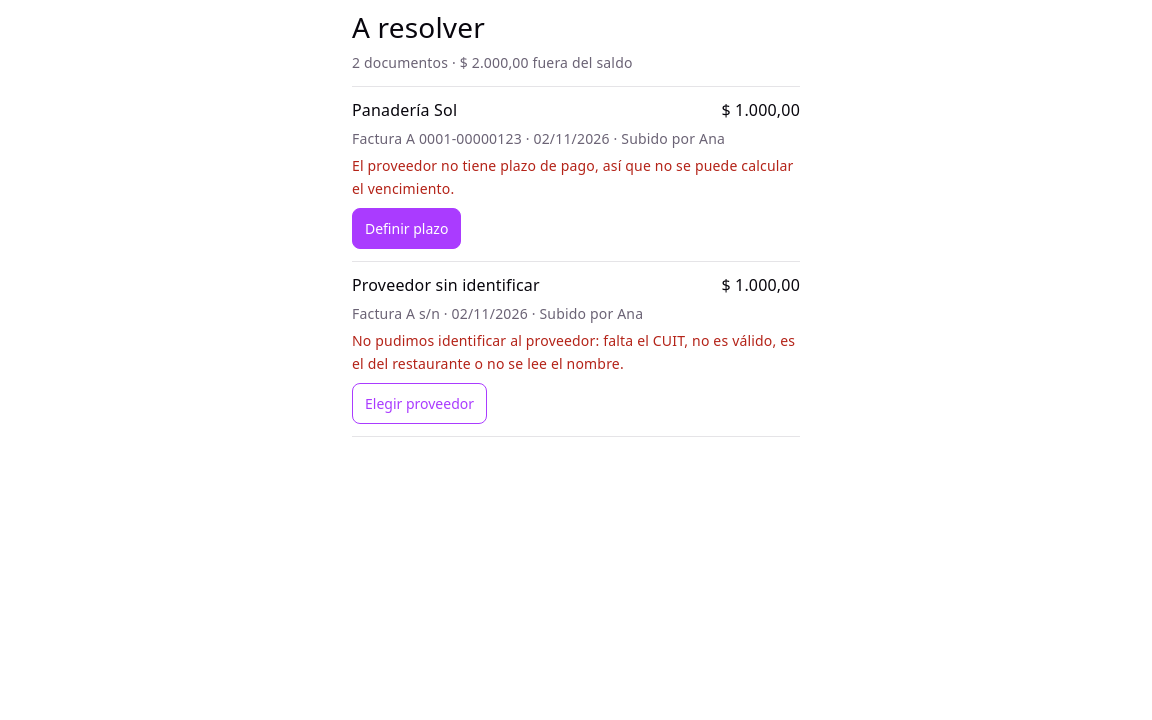
Test: A resolver › assigns a supplier with the term just saved from Definir plazo
Expected: the text "2 documentos · $ 2.000,00 fuera del saldo" is shown, [352,53,633,72]
Step 1. Click the button "Definir plazo" → coordinates (407, 229), box [352,208,461,249]
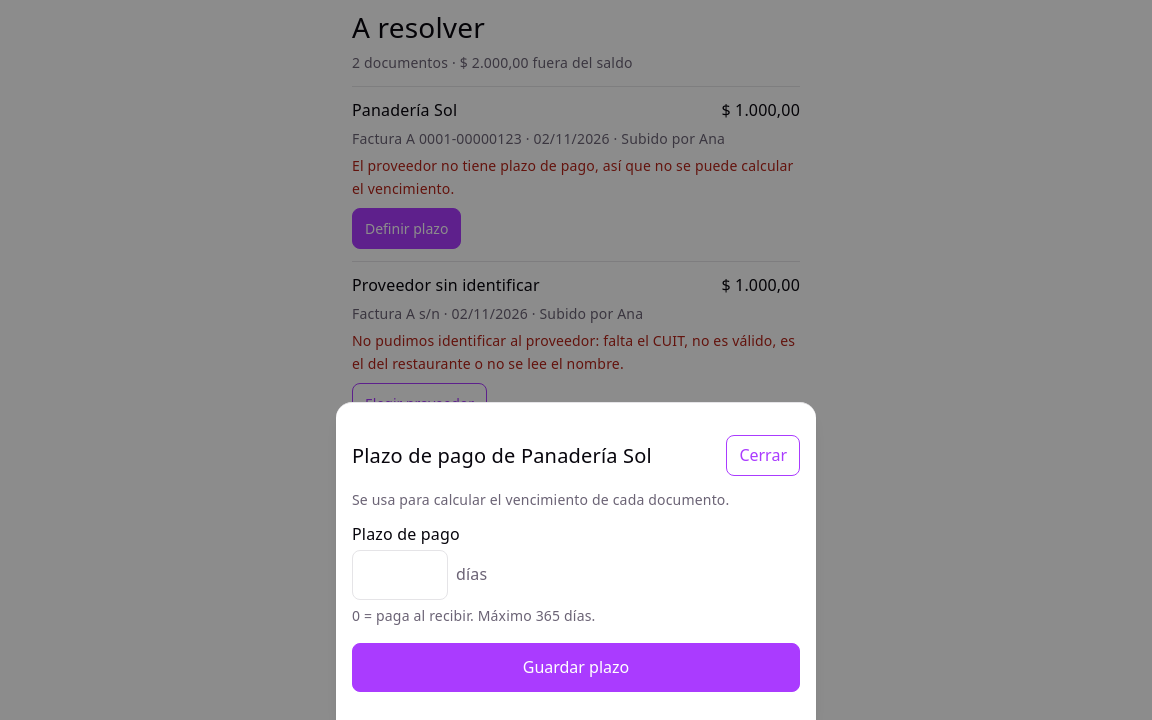
Step 2. Type "30" into the field labelled "Plazo de pago" → coordinates (400, 575), box [352,550,448,600]
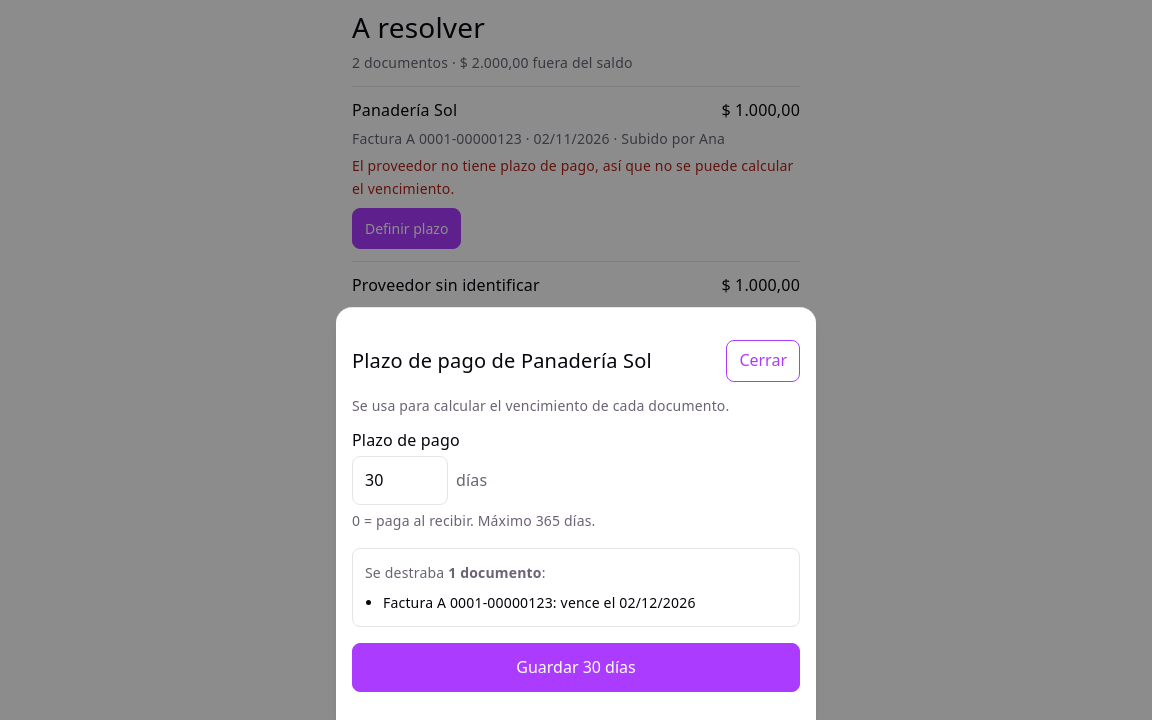
Now the list item "Factura A 0001-00000123: vence el 02/12/2026" is shown, box [383,593,696,612]
Step 3. Click the button "Guardar 30 días" → coordinates (576, 667), box [352,643,800,692]
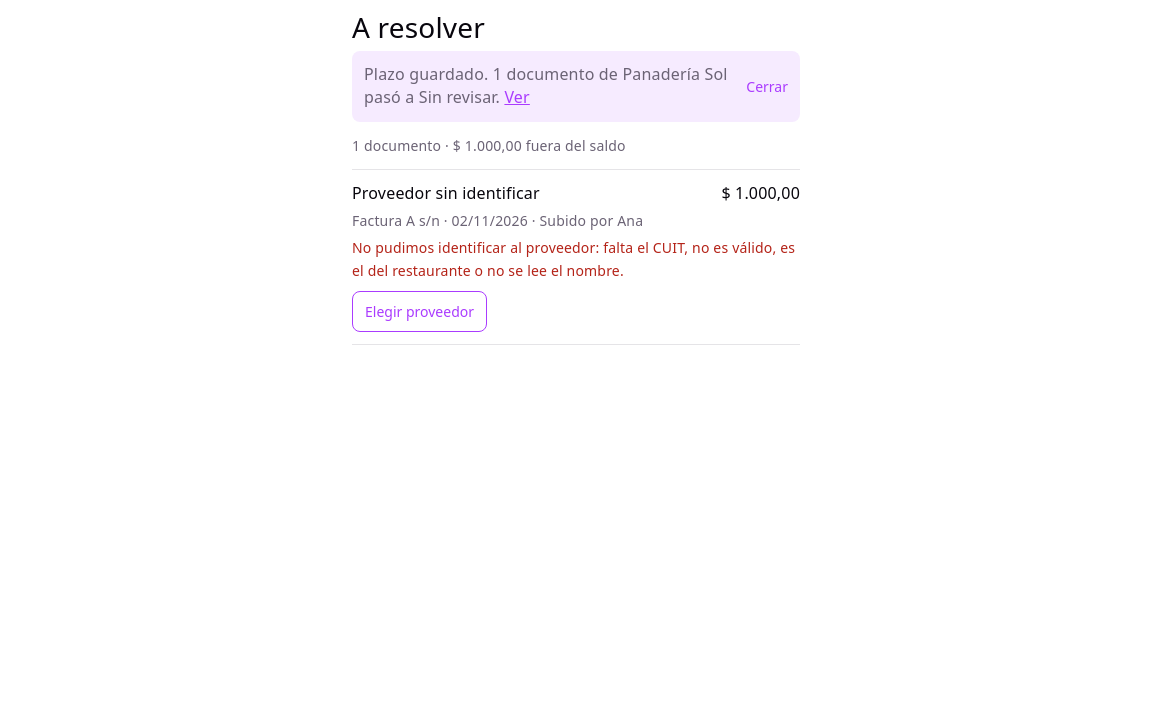
Now the text "Plazo guardado. 1 documento de Panadería Sol pasó a Sin revisar." is shown, box [364,63,728,108]
Now the text "1 documento · $ 1.000,00 fuera del saldo" is shown, box [352,136,626,155]
Step 4. Click the button "Elegir proveedor" → coordinates (420, 311), box [352,291,487,332]
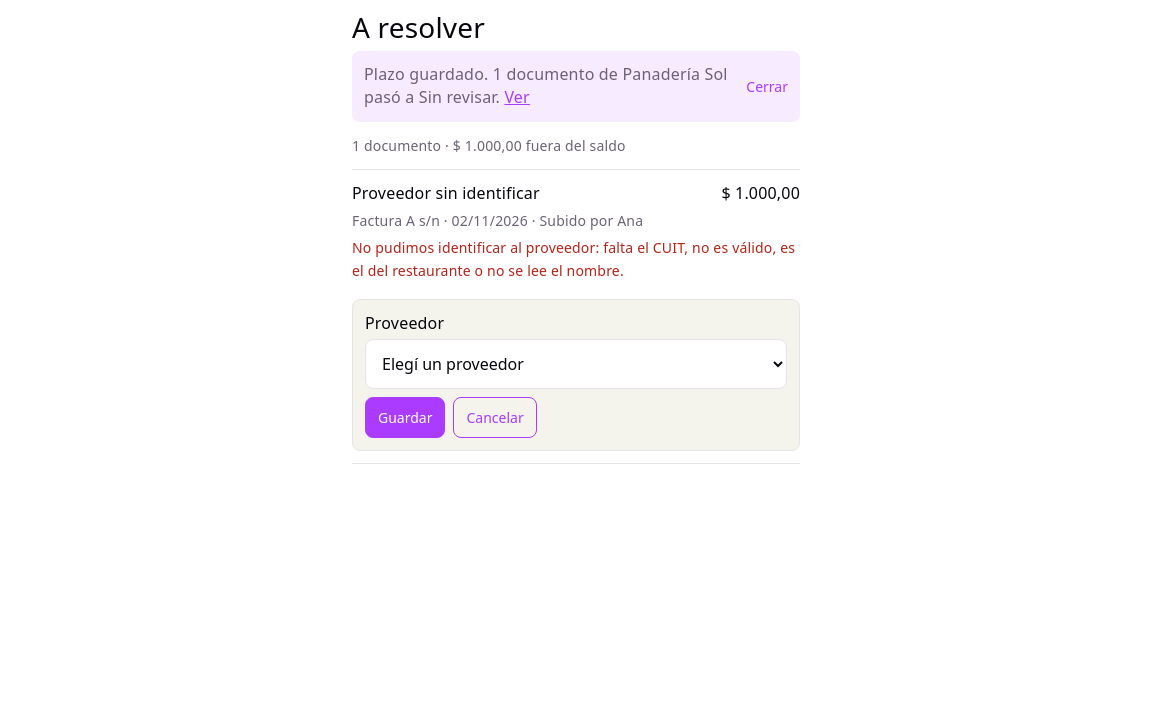
Step 5. Select "Panadería Sol" in the dropdown labelled "Proveedor" → coordinates (576, 364), box [365,339,787,389]
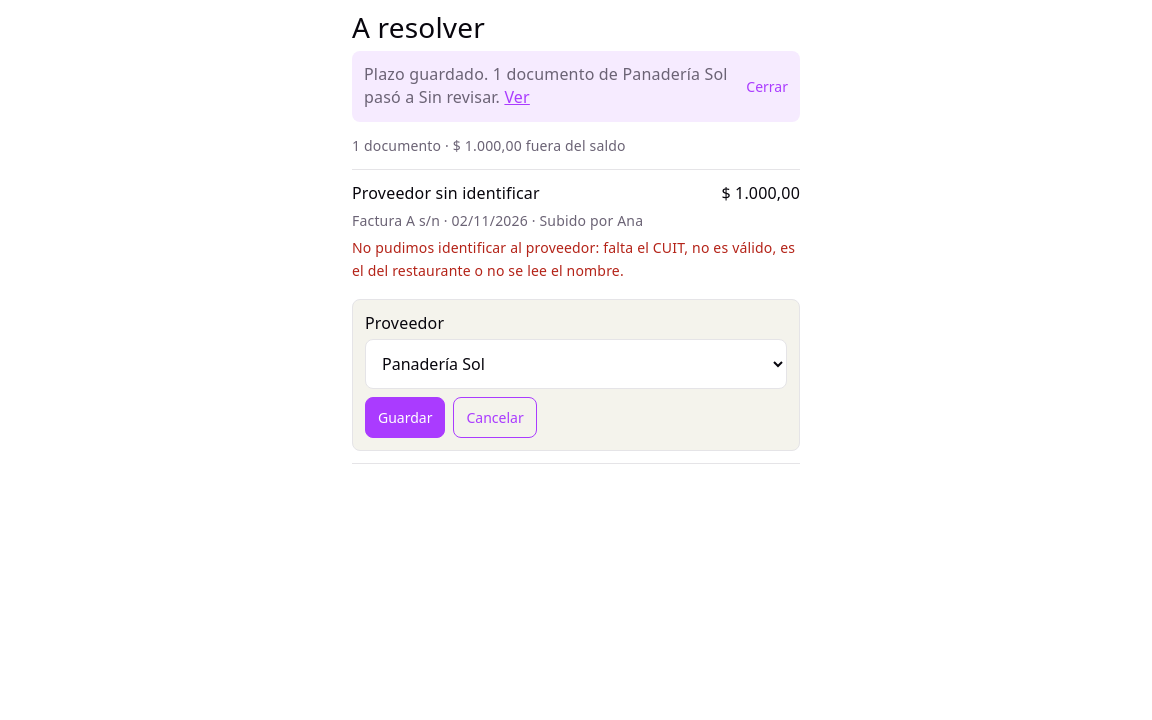
Step 6. Click the button "Guardar" → coordinates (405, 417), box [365,397,446,438]
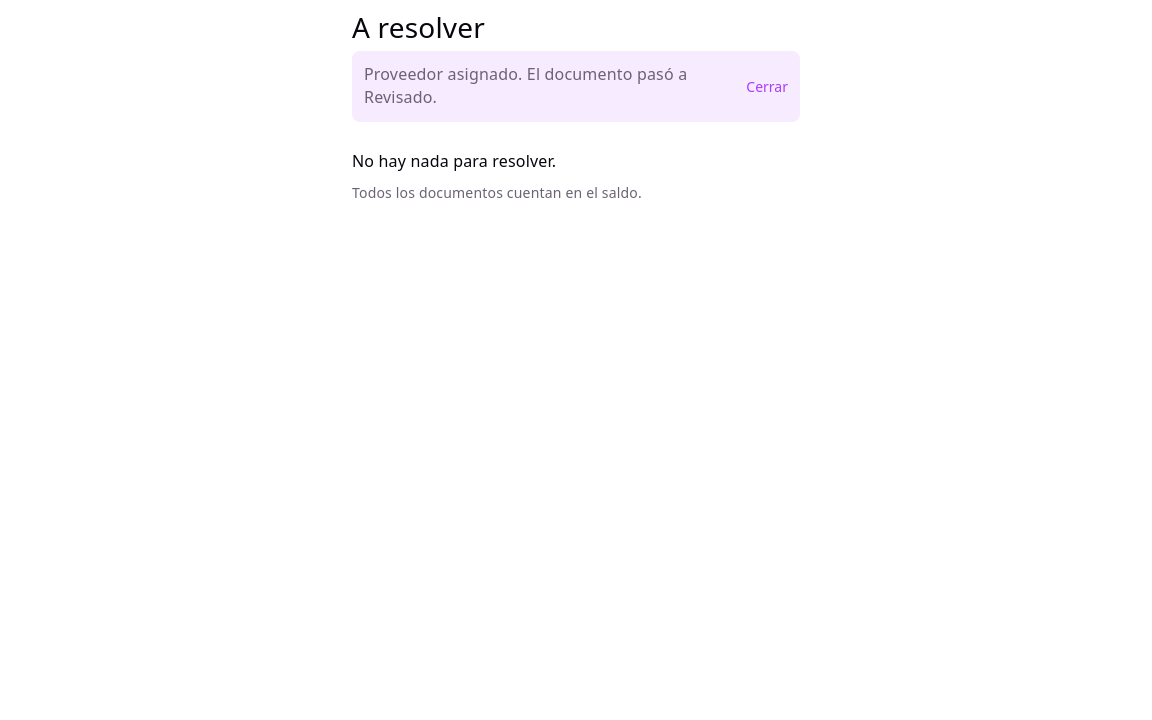
Now the text "Proveedor asignado. El documento pasó a Revisado." is shown, box [364,63,734,110]
Now the text "No hay nada para resolver." is shown, box [352,150,556,173]
